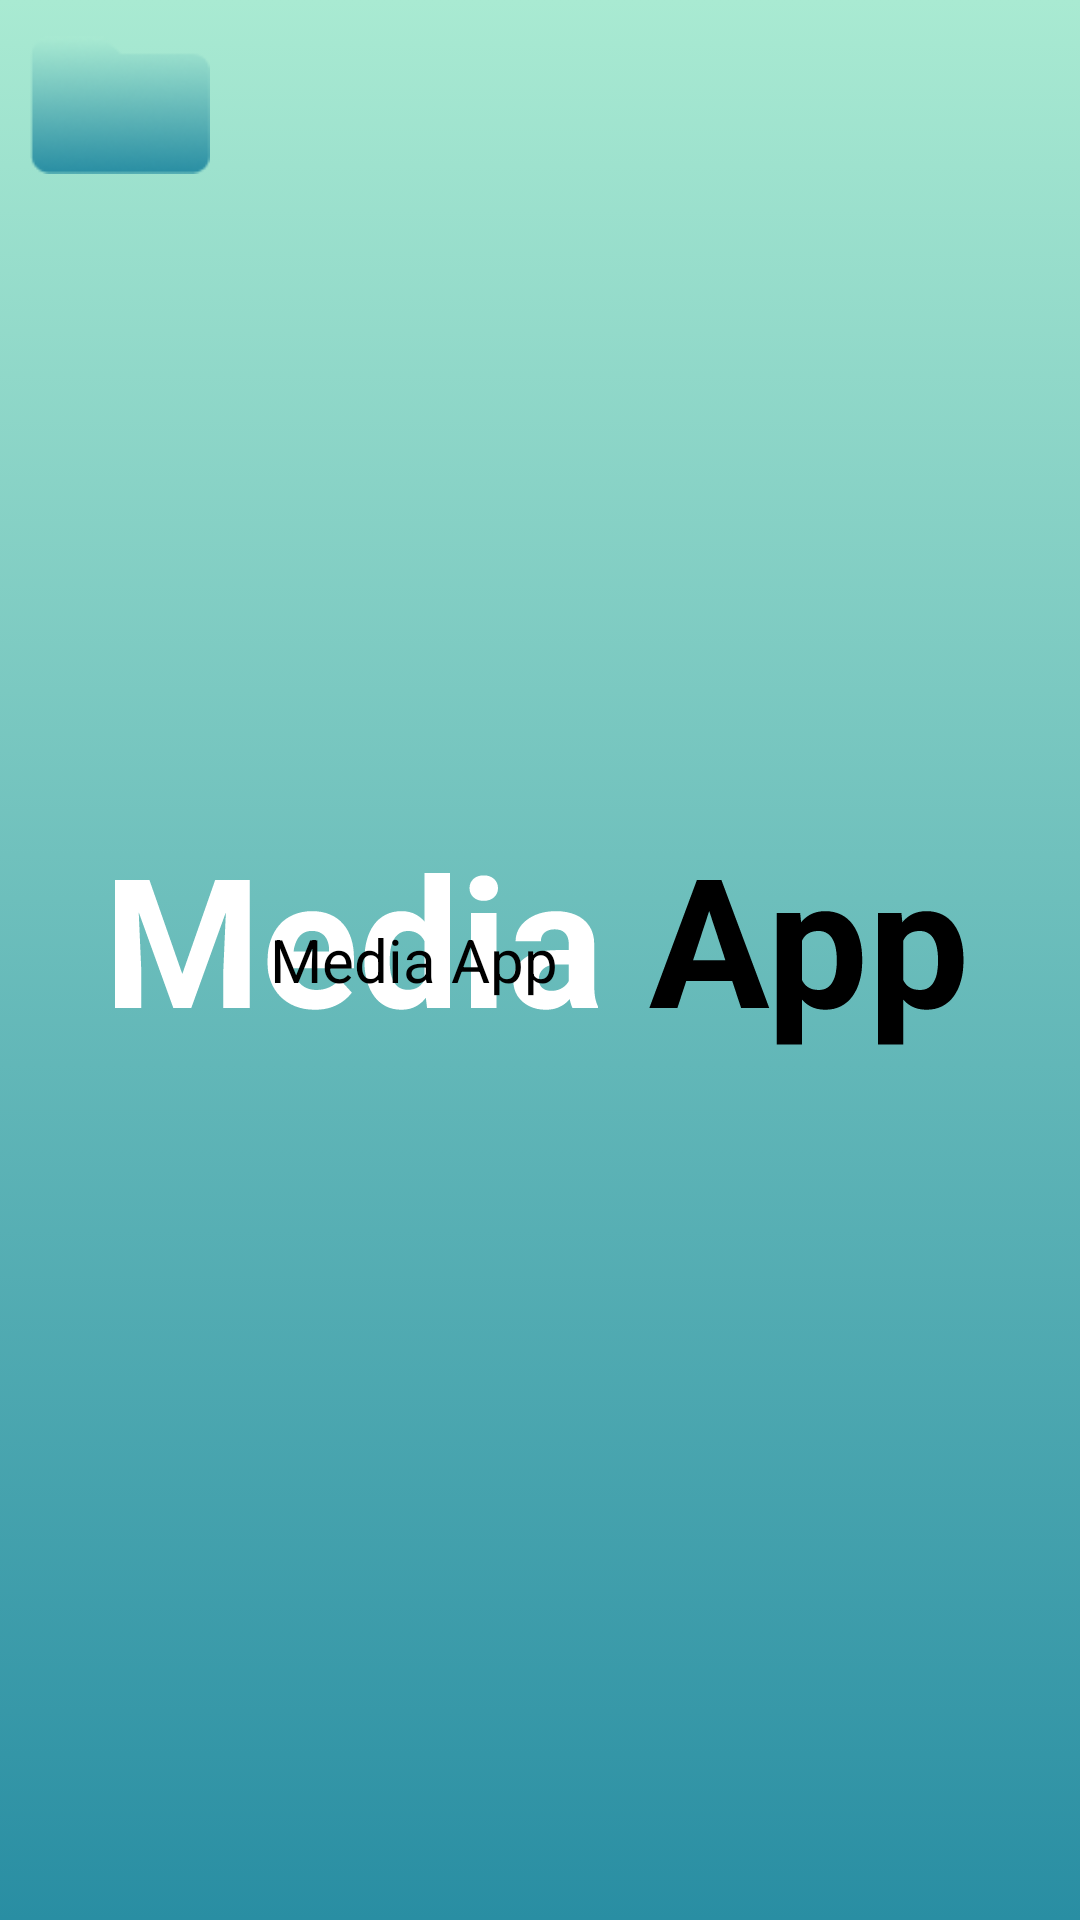

Icons on this 1080*1920 Android screen, each with the point to tap as [x,y]:
folder: [120,124]
